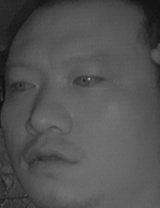eye: (69, 68, 107, 91), (8, 74, 40, 95)
mouth: (18, 139, 76, 176)
